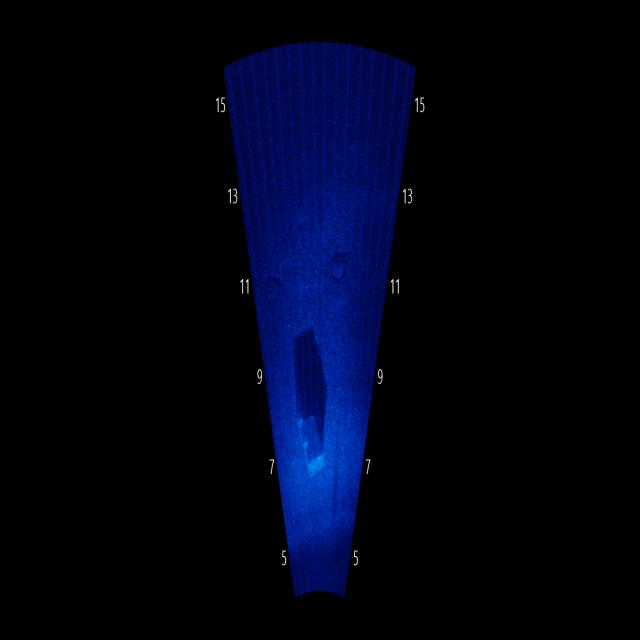square: (287, 389, 346, 494)
